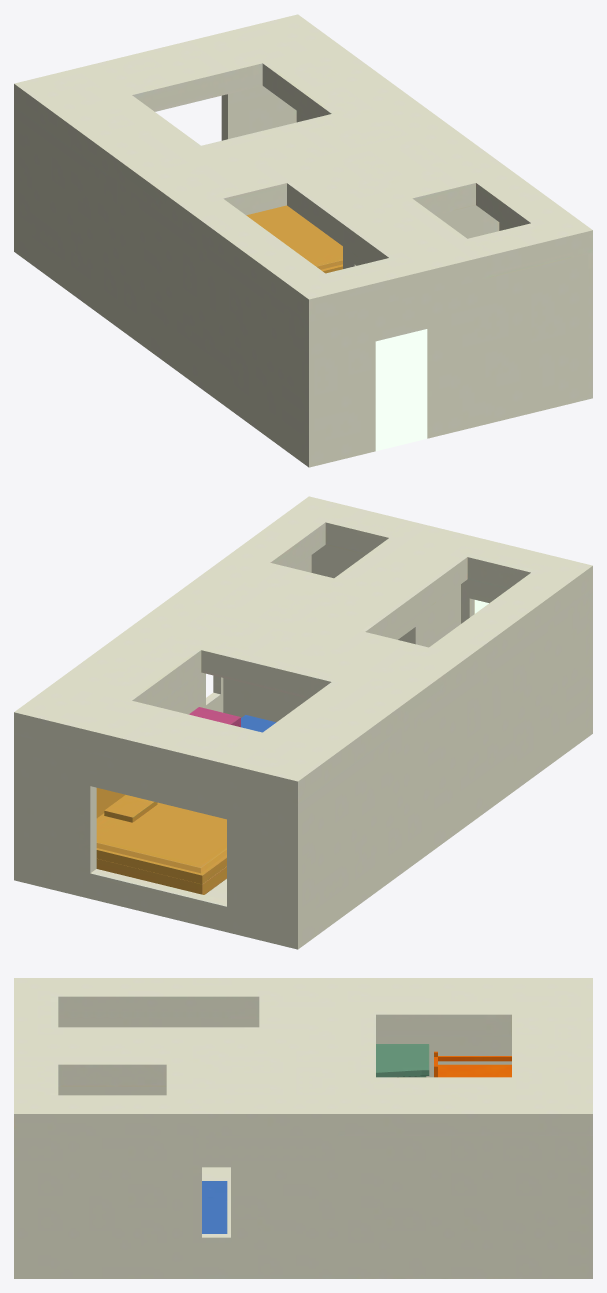
The model's file is room.glb.
3 views of the same model, one above another, from view 1: azimuth 30°, elevation 25°; view 2: azimuth 150°, elevation 25°; view 3: azimuth 270°, elevation 25° (orthographic).
Parts seen in each view (by area): view 1: room_shell, ExitPortal, Bed; view 2: room_shell, Bed; view 3: room_shell, Large_wardrobe, Multi-tier_cabinet, Long_cabinet.
Boxes of the visible parts, x1=… form: room_shell: x1=14, y1=14, x2=592, y2=467; ExitPortal: x1=375, y1=329, x2=427, y2=451; Bed: x1=246, y1=205, x2=342, y2=273; room_shell: x1=14, y1=496, x2=592, y2=949; Bed: x1=96, y1=788, x2=226, y2=894; room_shell: x1=14, y1=978, x2=592, y2=1278; Large_wardrobe: x1=376, y1=1044, x2=429, y2=1077; Multi-tier_cabinet: x1=434, y1=1051, x2=511, y2=1077; Long_cabinet: x1=202, y1=1181, x2=227, y2=1233.
Size of the model in its own units: 1.93 by 1.09 by 3.47.
Materials: 2 (1 with a texture image).
